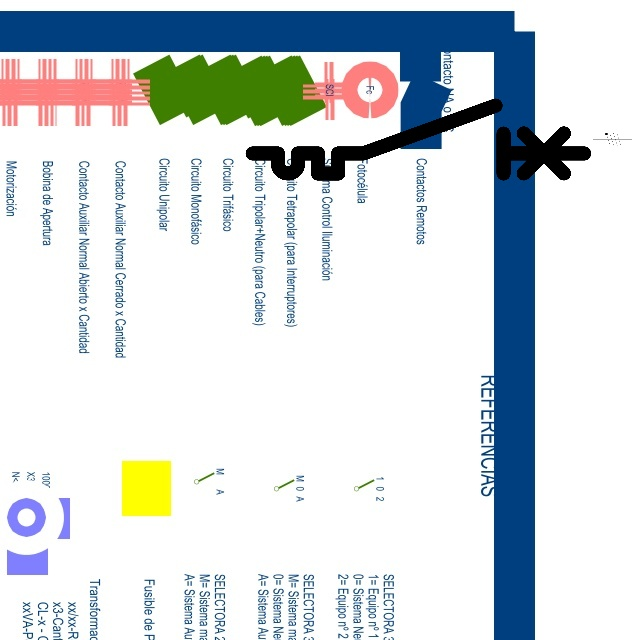interruptor_termomagnetico: (244, 97, 593, 182)
